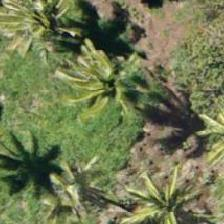coconut_tree: (57, 29, 147, 119), (102, 151, 192, 223), (0, 0, 74, 49)
